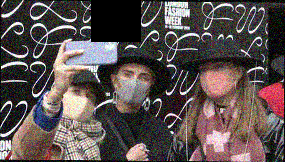with_mask: (117, 68, 153, 107), (199, 61, 236, 98), (62, 83, 97, 122)
